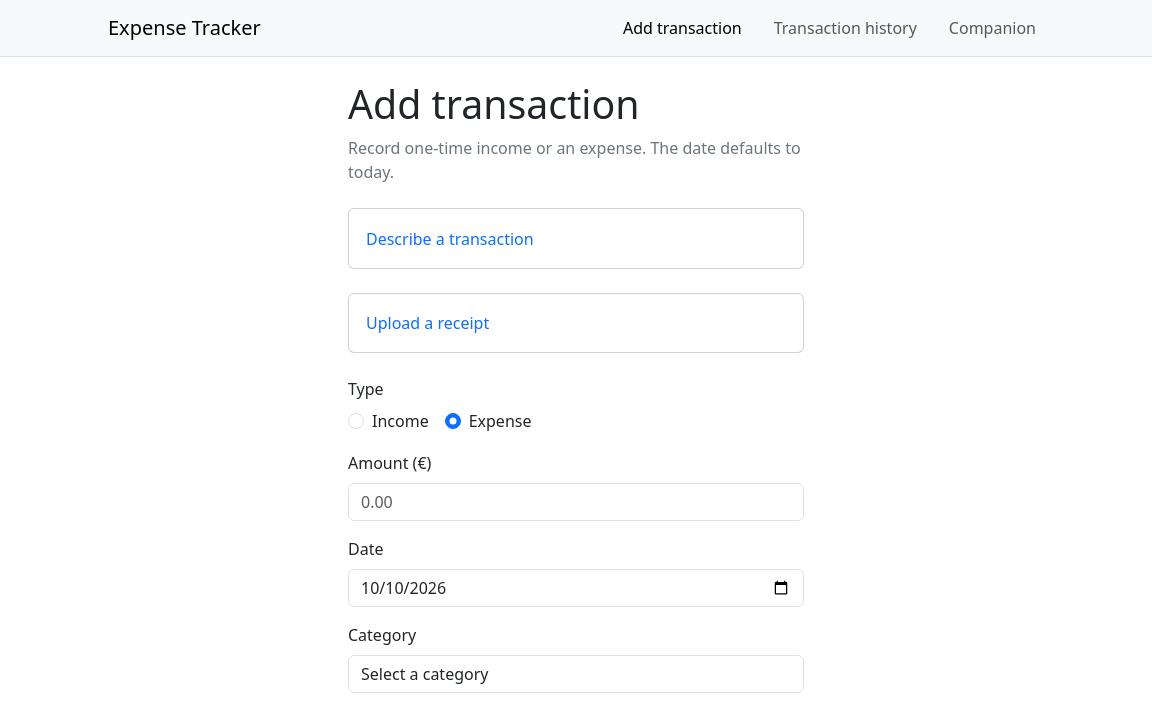
Test: AddTransactionPage › prevents another submission while the first request is pending
In the field labelled "Amount (€)": [576, 502] box [348,483,804,521], type "12.34"
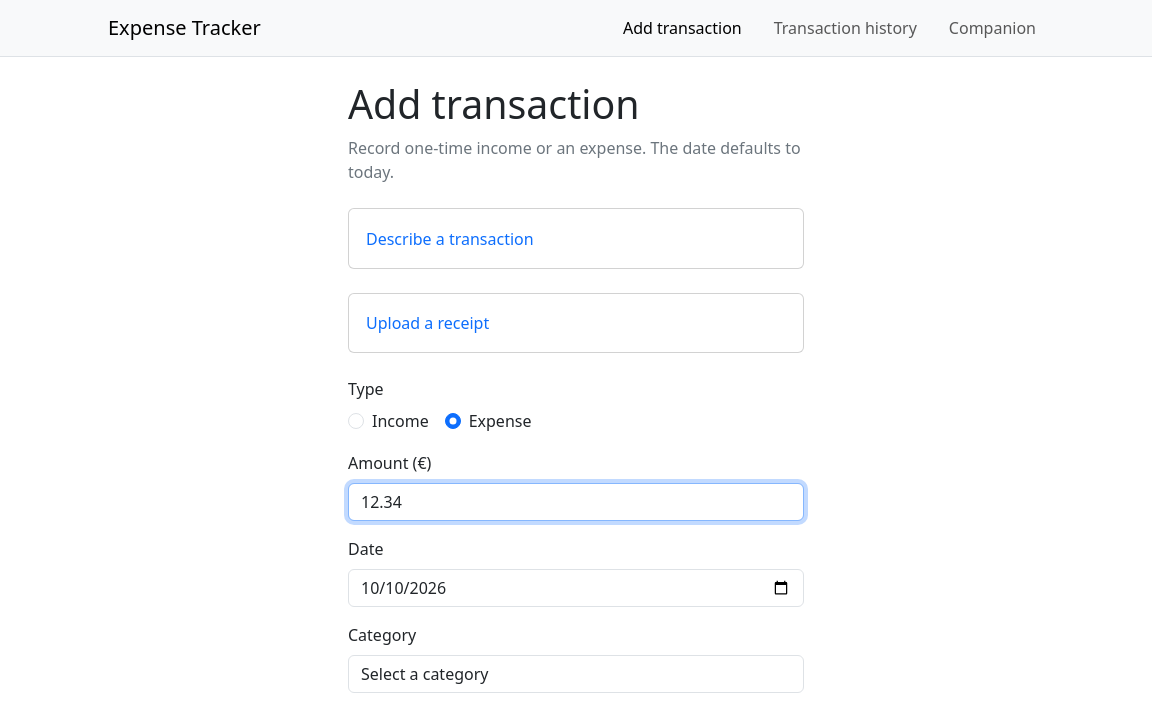
Select "Food" in the dropdown labelled "Category": [576, 674] box [348,655,804,693]
(page scrolled)
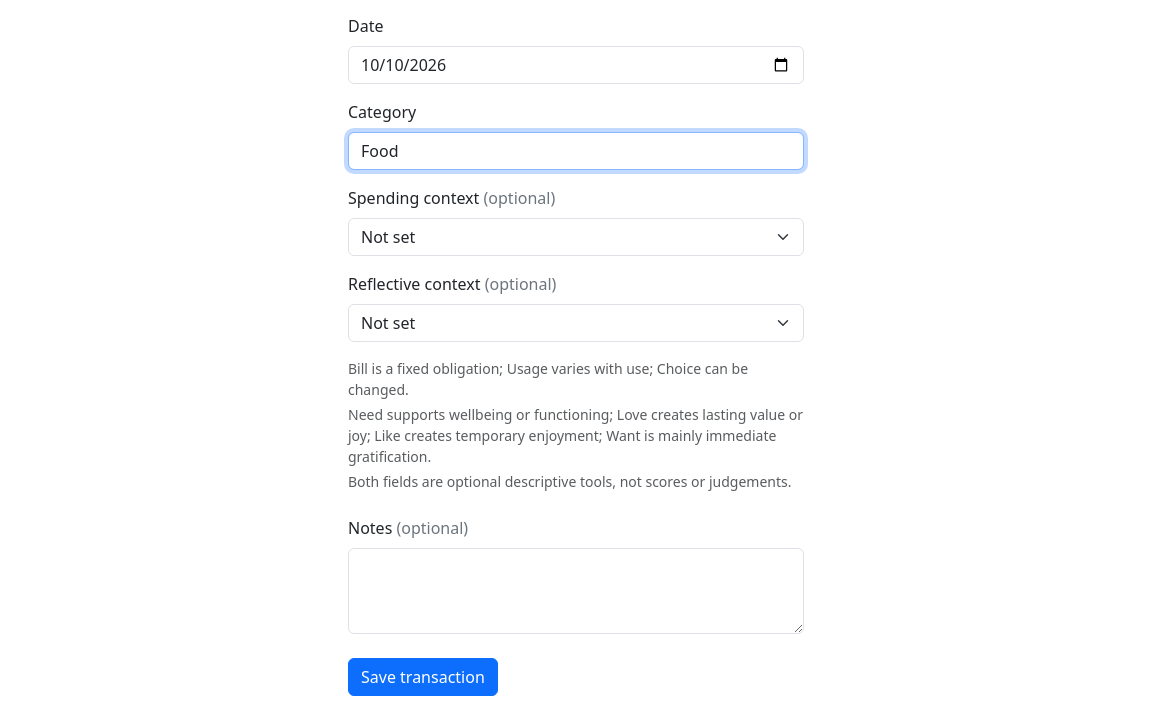
Click the button "Save transaction": [423, 677] box [348,658,498,696]
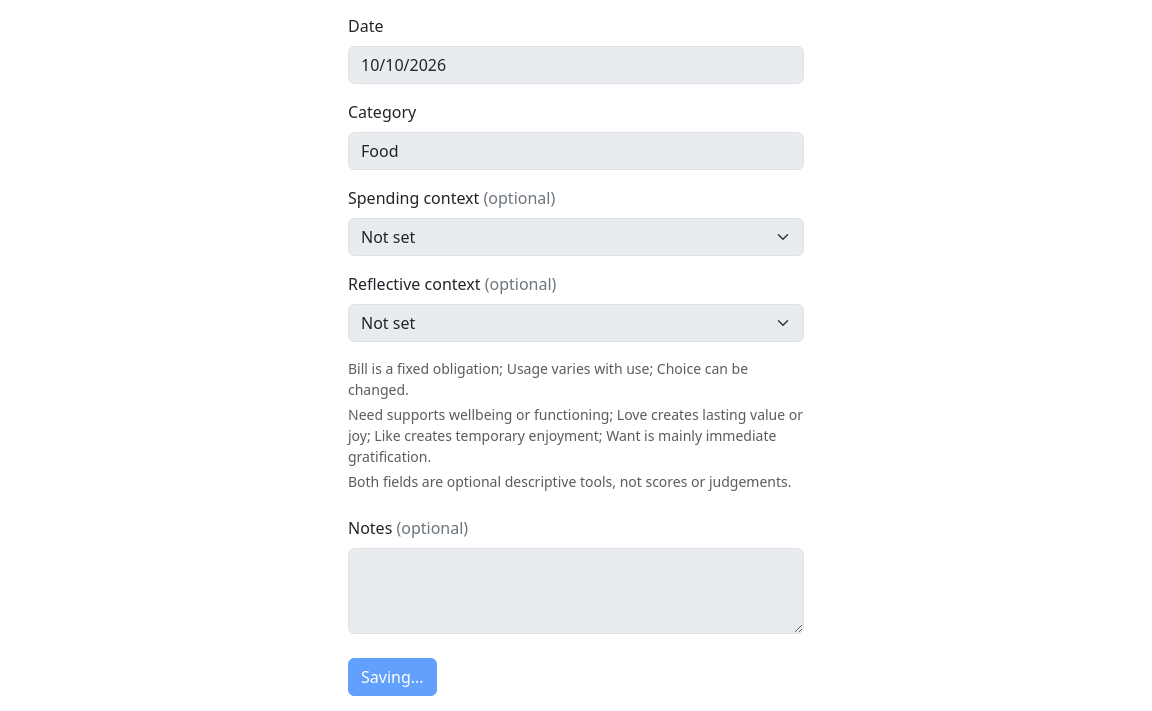
Expected: the button named "Save transaction" is disabled, [348,658,437,696]
